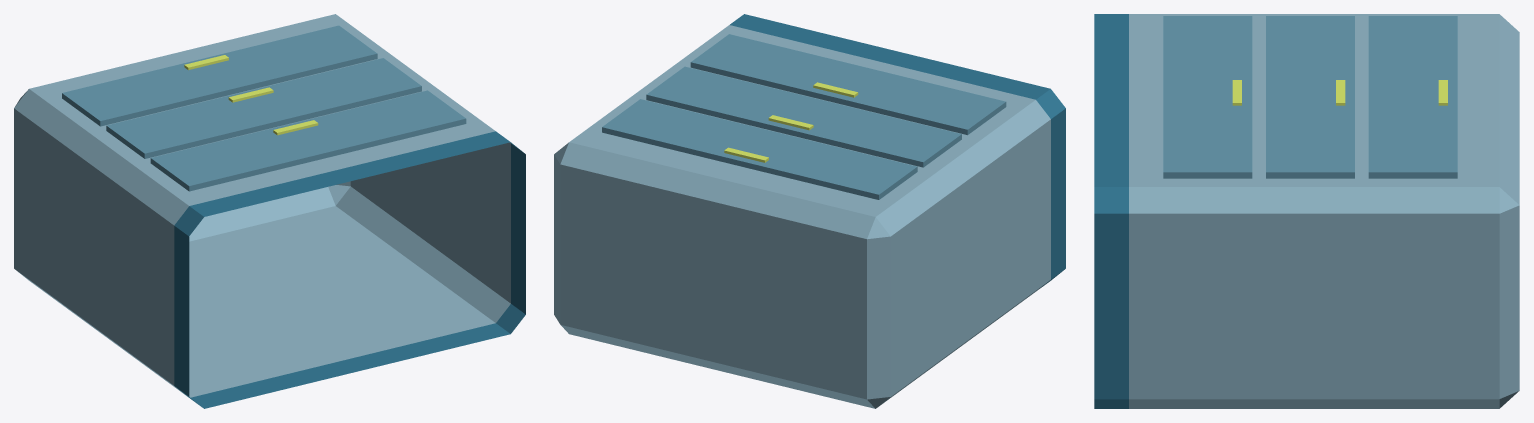
Rendered from Cabinet 03.FBX.
The picture shows the model from 3 angles, left to right: view 1: azimuth 30°, elevation 25°; view 2: azimuth 150°, elevation 25°; view 3: azimuth 270°, elevation 25°; orthographic projection. The views are drawn at different scales.
Parts seen in each view (by area): view 1: Cabinet 03; view 2: Cabinet 03; view 3: Cabinet 03.
Part boxes in pixels (left/top/right/bottom): Cabinet 03: left=14, top=14, right=525, bottom=408; Cabinet 03: left=554, top=14, right=1065, bottom=408; Cabinet 03: left=1094, top=14, right=1519, bottom=408.
Size of the model in its own units: 179 by 102 by 170.
1 material, 1 textured.
